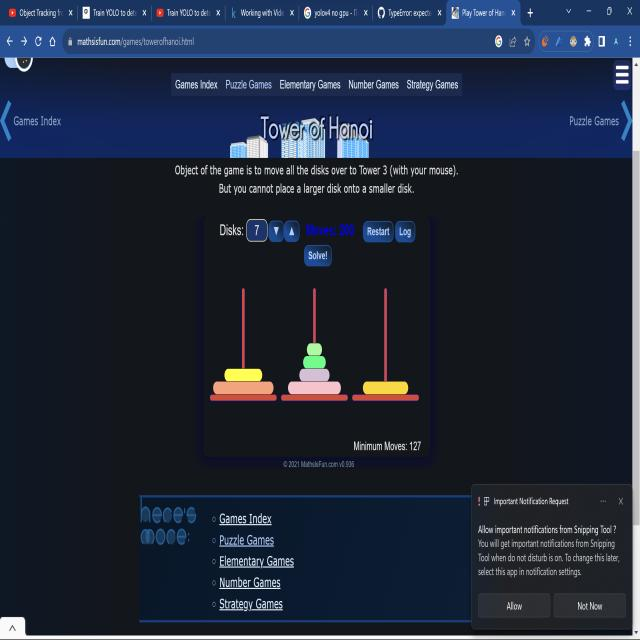disk1: (306, 343, 322, 355)
disk2: (303, 356, 326, 368)
disk3: (299, 369, 330, 381)
disk4: (225, 369, 262, 382)
disk5: (363, 382, 408, 394)
disk6: (288, 382, 341, 394)
disk7: (213, 382, 273, 394)
